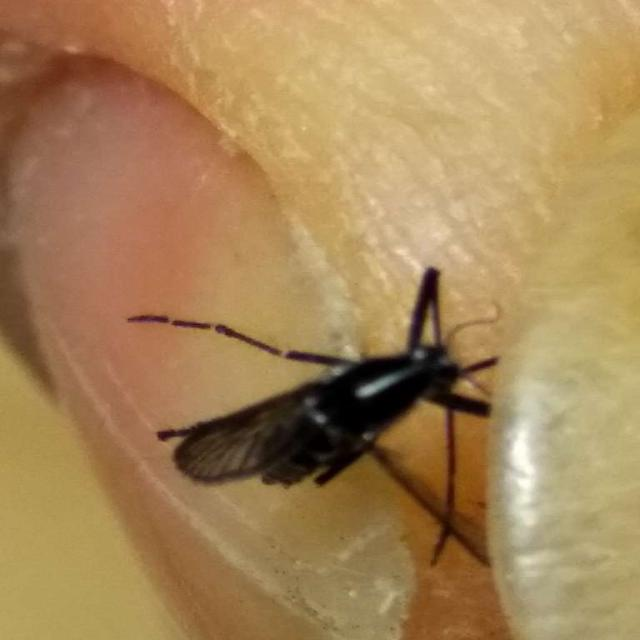albopictus: (117, 242, 534, 572)
